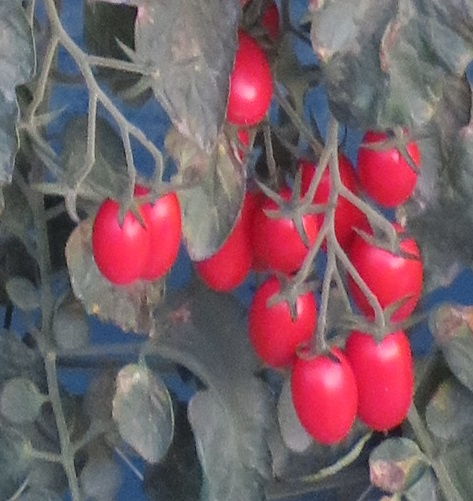red: (289, 340, 360, 444), (347, 319, 415, 427), (349, 227, 425, 322), (248, 273, 319, 368), (352, 120, 420, 208), (253, 189, 321, 272), (219, 28, 273, 124), (94, 192, 145, 283), (150, 185, 184, 283)
